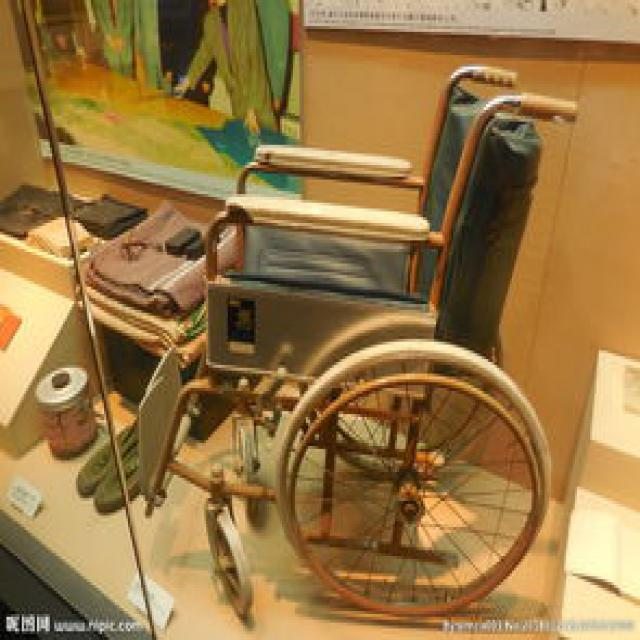wheelchair: (79, 54, 558, 618)
